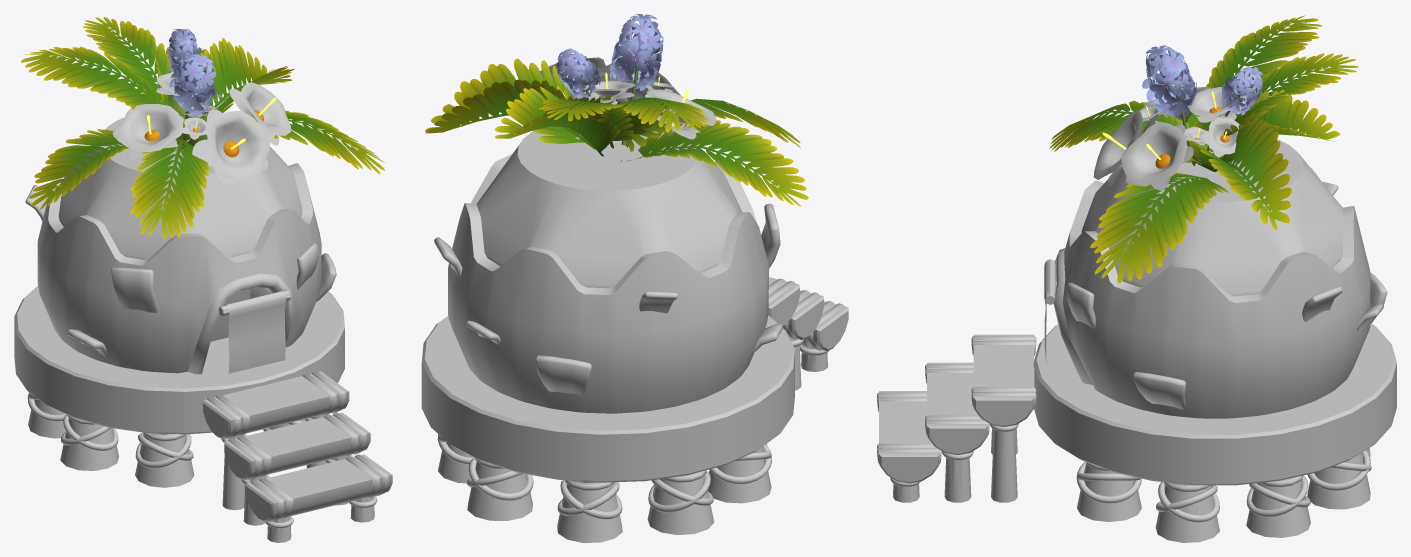
File: Prop_House2.fbx
3 views of the same model, side by side, from view 1: azimuth 30°, elevation 25°; view 2: azimuth 150°, elevation 25°; view 3: azimuth 270°, elevation 25° (orthographic). The views are drawn at different scales.
Parts seen in each view (by area): view 1: House, Floor, Stairs001, Stairs, Stairs002, Object002, Object005, Vine.002, poster, Object001, Object006, Object007 (+14 smaller); view 2: House, Floor, Object001, Object007, Object008, Hyacinth_Flower.001, FloorLeg007, FloorLeg006, FloorLeg003, Object005, FloorLeg005, Object002 (+18 smaller); view 3: House, Floor, Object003, Stairs, Object007, Stairs002, Stairs001, Object005, Vine.003, Object006, Hyacinth_Flower.001, Object008 (+18 smaller).
Boxes of the visible parts, x1=… form: House: x1=37, y1=114, x2=321, y2=374; Floor: x1=14, y1=286, x2=344, y2=434; Stairs001: x1=224, y1=412, x2=370, y2=480; Stairs: x1=203, y1=371, x2=349, y2=438; Stairs002: x1=246, y1=454, x2=392, y2=522; Object002: x1=130, y1=139, x2=210, y2=239; Object005: x1=21, y1=46, x2=167, y2=109; Vine.002: x1=192, y1=109, x2=270, y2=188; poster: x1=224, y1=291, x2=285, y2=373; Object001: x1=29, y1=129, x2=129, y2=209; Object006: x1=83, y1=17, x2=185, y2=127; Object007: x1=188, y1=38, x2=294, y2=119; House: x1=448, y1=126, x2=768, y2=413; Floor: x1=421, y1=315, x2=794, y2=482; Object001: x1=620, y1=120, x2=808, y2=206; Object007: x1=425, y1=58, x2=595, y2=149; Object008: x1=494, y1=86, x2=619, y2=156; Hyacinth_Flower.001: x1=609, y1=14, x2=663, y2=90; FloorLeg007: x1=557, y1=480, x2=622, y2=542; FloorLeg006: x1=647, y1=470, x2=714, y2=534; FloorLeg003: x1=467, y1=458, x2=532, y2=520; Object005: x1=595, y1=97, x2=709, y2=134; FloorLeg005: x1=708, y1=446, x2=771, y2=503; Object002: x1=613, y1=98, x2=800, y2=151; House: x1=1053, y1=139, x2=1370, y2=418; Floor: x1=1033, y1=323, x2=1396, y2=485; Object003: x1=1090, y1=172, x2=1228, y2=283; Stairs: x1=971, y1=334, x2=1036, y2=426; Object007: x1=1188, y1=112, x2=1291, y2=230; Stairs002: x1=877, y1=391, x2=941, y2=483; Stairs001: x1=925, y1=362, x2=989, y2=455; Object005: x1=1194, y1=15, x2=1321, y2=151; Vine.003: x1=1121, y1=121, x2=1193, y2=191; Object006: x1=1219, y1=53, x2=1358, y2=159; Hyacinth_Flower.001: x1=1142, y1=45, x2=1196, y2=117; Object008: x1=1212, y1=89, x2=1340, y2=162.
Bounding box in the file's own units: 649 × 723 × 803.
